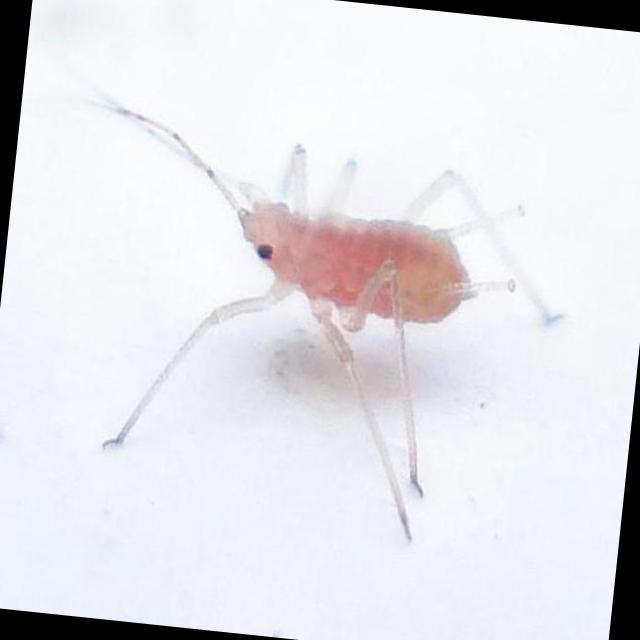aphid: (86, 79, 572, 559)
